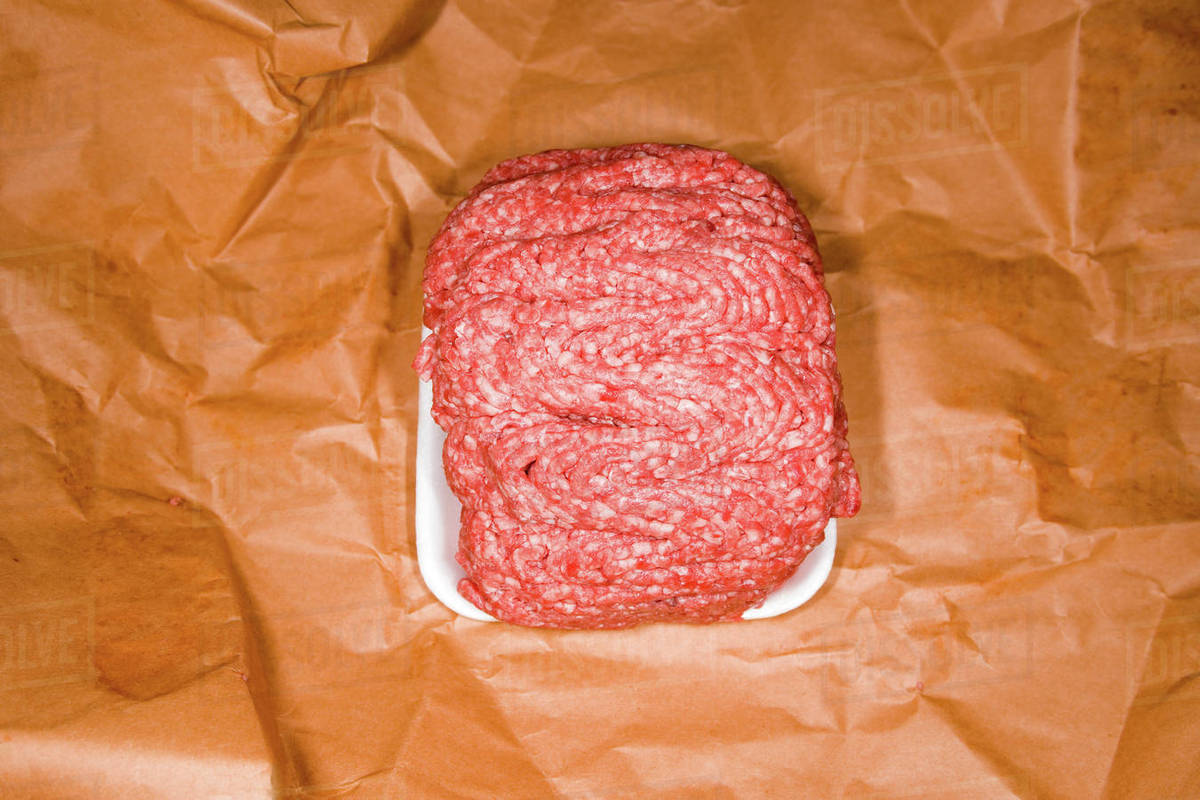ground_beef: (426, 126, 862, 672)
